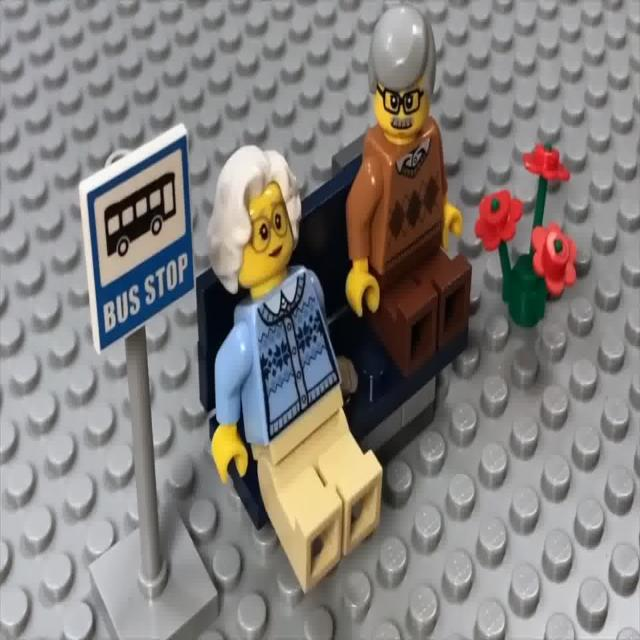4: (340, 155, 386, 323), (212, 322, 248, 484), (441, 204, 463, 248)
hand: (209, 146, 382, 594), (346, 8, 471, 376)
